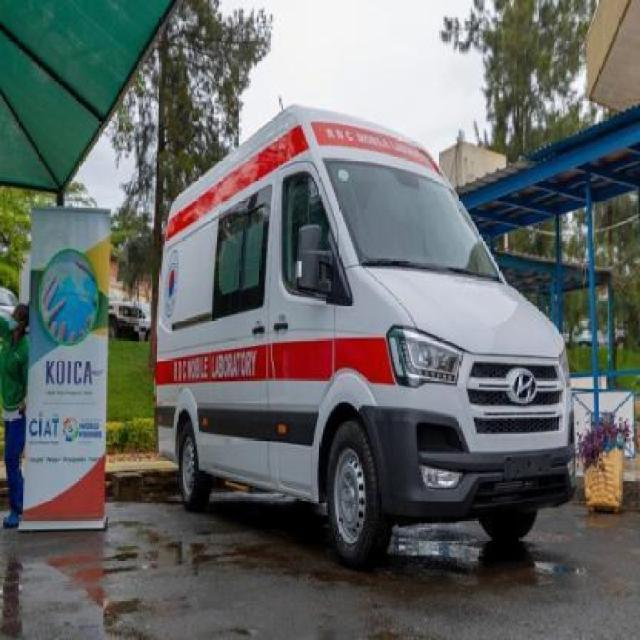emergency: (148, 106, 572, 574)
